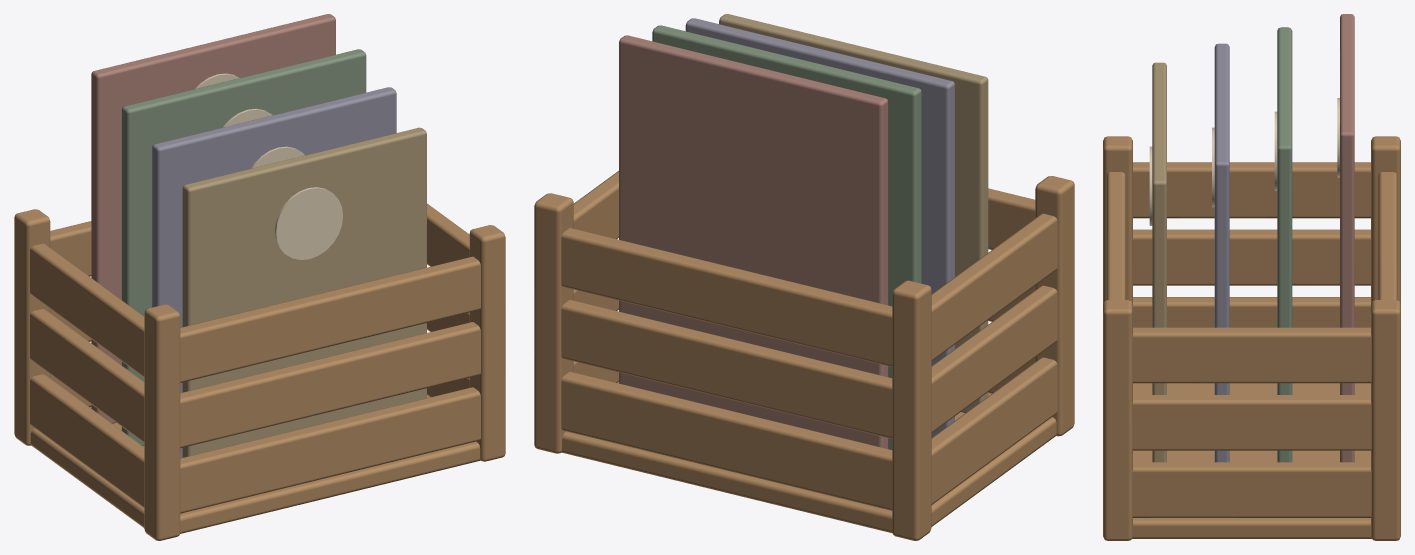
File: vinylcrate.glb
3 renders of one model, left to right at view 1: azimuth 30°, elevation 25°; view 2: azimuth 150°, elevation 25°; view 3: azimuth 270°, elevation 25°, orthographic. The views are drawn at different scales.
Parts seen in each view (by area): view 1: record-sleeve-3, record-crate-long-slat-2-1, record-crate-long-slat-0-1, record-crate-long-slat-1-1, record-sleeve-0, record-sleeve-1, record-sleeve-2, record-crate-floor, record-crate-batten--1-1, record-crate-end-slat-0--1, record-crate-end-slat-1--1, record-crate-end-slat-2--1 (+6 smaller); view 2: record-sleeve-0, record-crate-long-slat-2--1, record-crate-long-slat-0--1, record-crate-long-slat-1--1, record-sleeve-1, record-sleeve-2, record-crate-floor, record-crate-batten--1--1, record-sleeve-3, record-crate-end-slat-1--1, record-crate-end-slat-0--1, record-crate-end-slat-2--1 (+4 smaller); view 3: record-crate-end-slat-2-1, record-crate-end-slat-1-1, record-crate-end-slat-0-1, record-crate-end-slat-1--1, record-crate-end-slat-2--1, record-crate-floor, record-crate-batten-1--1, record-crate-batten-1-1, record-crate-end-slat-0--1, record-sleeve-1, record-sleeve-0, record-sleeve-2 (+5 smaller).
Part boxes in pixels (<box>): record-sleeve-3: <box>182,127,426,457</box>; record-crate-long-slat-2-1: <box>180,256,480,382</box>; record-crate-long-slat-0-1: <box>180,387,480,513</box>; record-crate-long-slat-1-1: <box>180,322,480,448</box>; record-sleeve-0: <box>91,14,335,423</box>; record-sleeve-1: <box>121,49,366,445</box>; record-sleeve-2: <box>152,87,396,458</box>; record-crate-floor: <box>30,395,480,533</box>; record-crate-batten--1-1: <box>144,304,180,540</box>; record-crate-end-slat-0--1: <box>30,374,144,507</box>; record-crate-end-slat-1--1: <box>30,309,144,442</box>; record-crate-end-slat-2--1: <box>30,243,144,377</box>; record-sleeve-0: <box>619,35,888,448</box>; record-crate-long-slat-2--1: <box>561,228,892,366</box>; record-crate-long-slat-0--1: <box>561,371,892,510</box>; record-crate-long-slat-1--1: <box>561,300,892,438</box>; record-sleeve-1: <box>652,25,921,449</box>; record-sleeve-2: <box>685,18,954,437</box>; record-crate-floor: <box>561,381,1056,533</box>; record-crate-batten--1--1: <box>892,280,931,540</box>; record-sleeve-3: <box>719,14,988,412</box>; record-crate-end-slat-1--1: <box>931,285,1057,432</box>; record-crate-end-slat-0--1: <box>931,357,1057,504</box>; record-crate-end-slat-2--1: <box>931,213,1057,360</box>; record-crate-end-slat-2-1: <box>1132,327,1371,383</box>; record-crate-end-slat-1-1: <box>1132,395,1371,450</box>; record-crate-end-slat-0-1: <box>1132,462,1371,517</box>; record-crate-end-slat-1--1: <box>1133,229,1370,285</box>; record-crate-end-slat-2--1: <box>1133,162,1370,218</box>; record-crate-floor: <box>1132,383,1371,538</box>; record-crate-batten-1--1: <box>1371,300,1400,540</box>; record-crate-batten-1-1: <box>1103,300,1132,540</box>; record-crate-end-slat-0--1: <box>1133,297,1370,327</box>; record-sleeve-1: <box>1277,27,1292,462</box>; record-sleeve-0: <box>1340,14,1354,462</box>; record-sleeve-2: <box>1214,43,1229,462</box>.
Size of the model in its own units: 0.7 by 0.7071 by 0.5.
